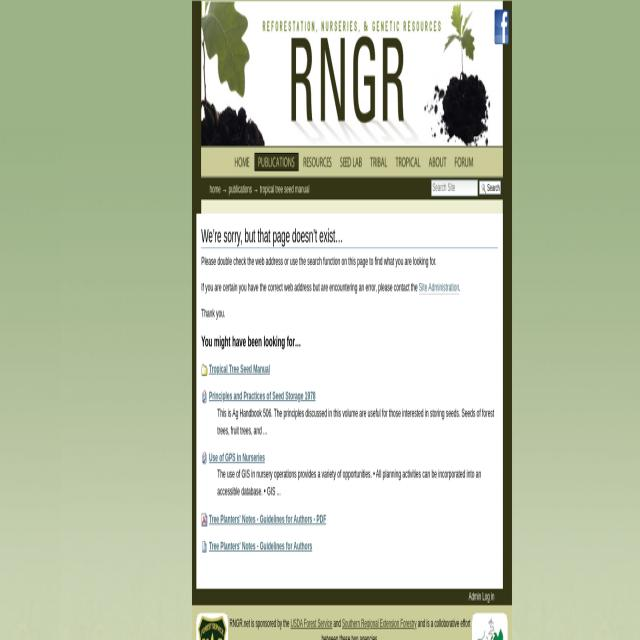button: (255, 152, 299, 170), (300, 152, 335, 170), (392, 152, 424, 170), (336, 152, 366, 170), (494, 8, 508, 43), (451, 152, 477, 170), (367, 152, 391, 170), (426, 152, 450, 170), (231, 152, 253, 170), (479, 180, 501, 194), (201, 361, 208, 377), (201, 388, 208, 404), (201, 511, 208, 527), (201, 450, 208, 465), (201, 538, 208, 553)
field: (432, 179, 478, 195)
